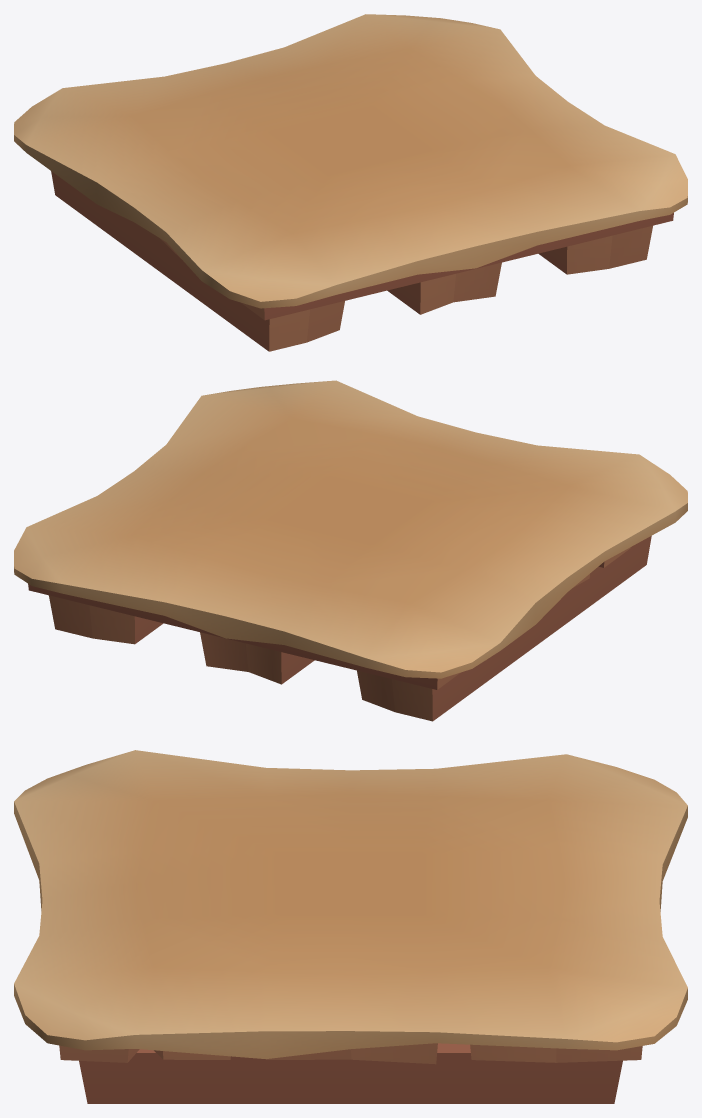
The model's file is Pallet_Wood_Covered_A.glb.
3 renders of one model, top to bottom at view 1: azimuth 30°, elevation 25°; view 2: azimuth 150°, elevation 25°; view 3: azimuth 270°, elevation 25°, orthographic. The views are drawn at different scales.
Visible parts, largest first — view 1: Pallet_Wood_Covered_A; view 2: Pallet_Wood_Covered_A; view 3: Pallet_Wood_Covered_A.
Boxes of the visible parts, <box> form: Pallet_Wood_Covered_A: <box>14,14,687,351</box>; Pallet_Wood_Covered_A: <box>14,380,687,721</box>; Pallet_Wood_Covered_A: <box>14,750,687,1103</box>.
Size of the model in its own units: 1.72 by 0.3 by 1.72.
1 material, 1 textured.
